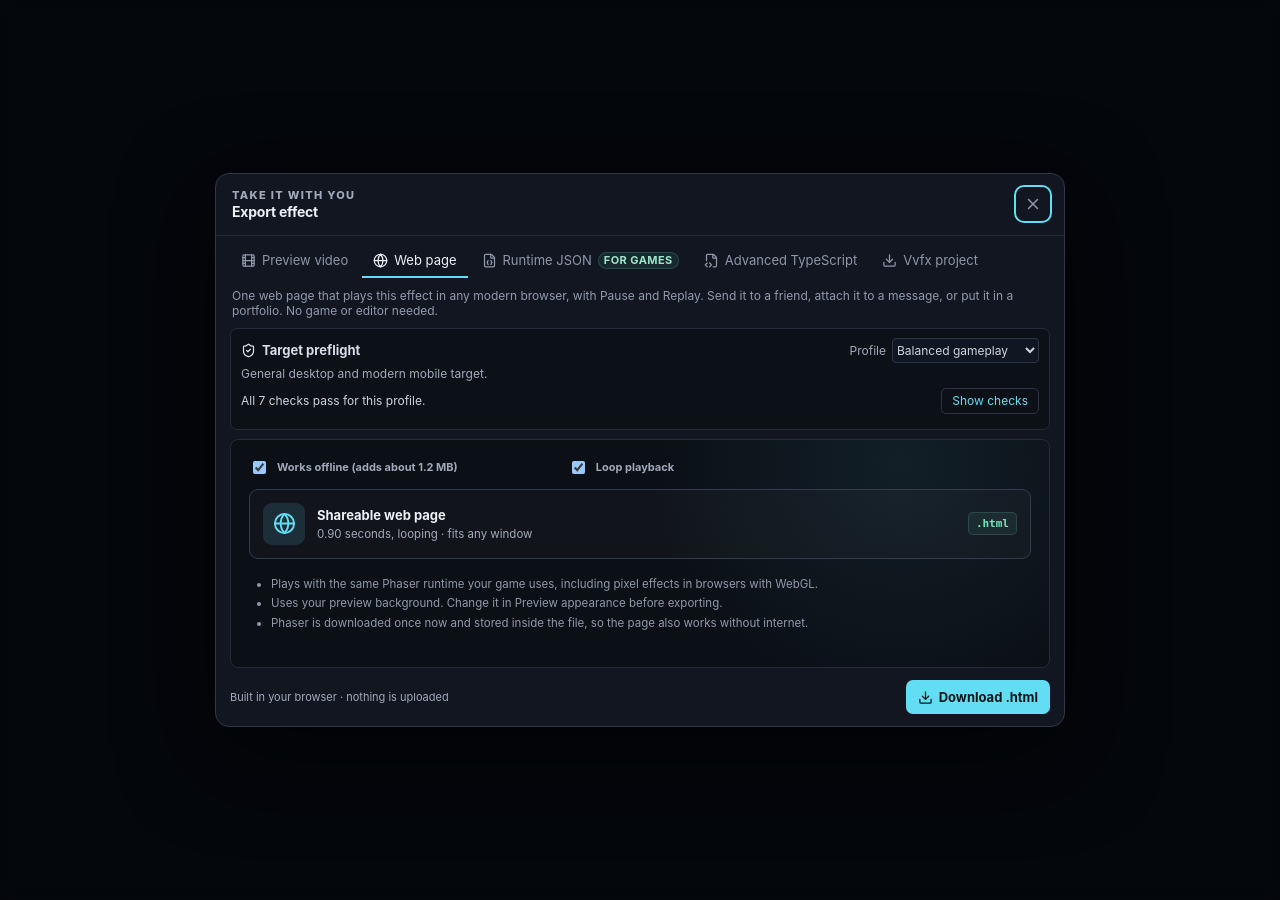
Test: Web page export tab › builds with the chosen options and reports the download
Expected: the panel "web page" is shown, [230,439,1050,668]
Click the checkbox labelled "Loop playback".
click(578, 467)  # box [572,461,585,474]
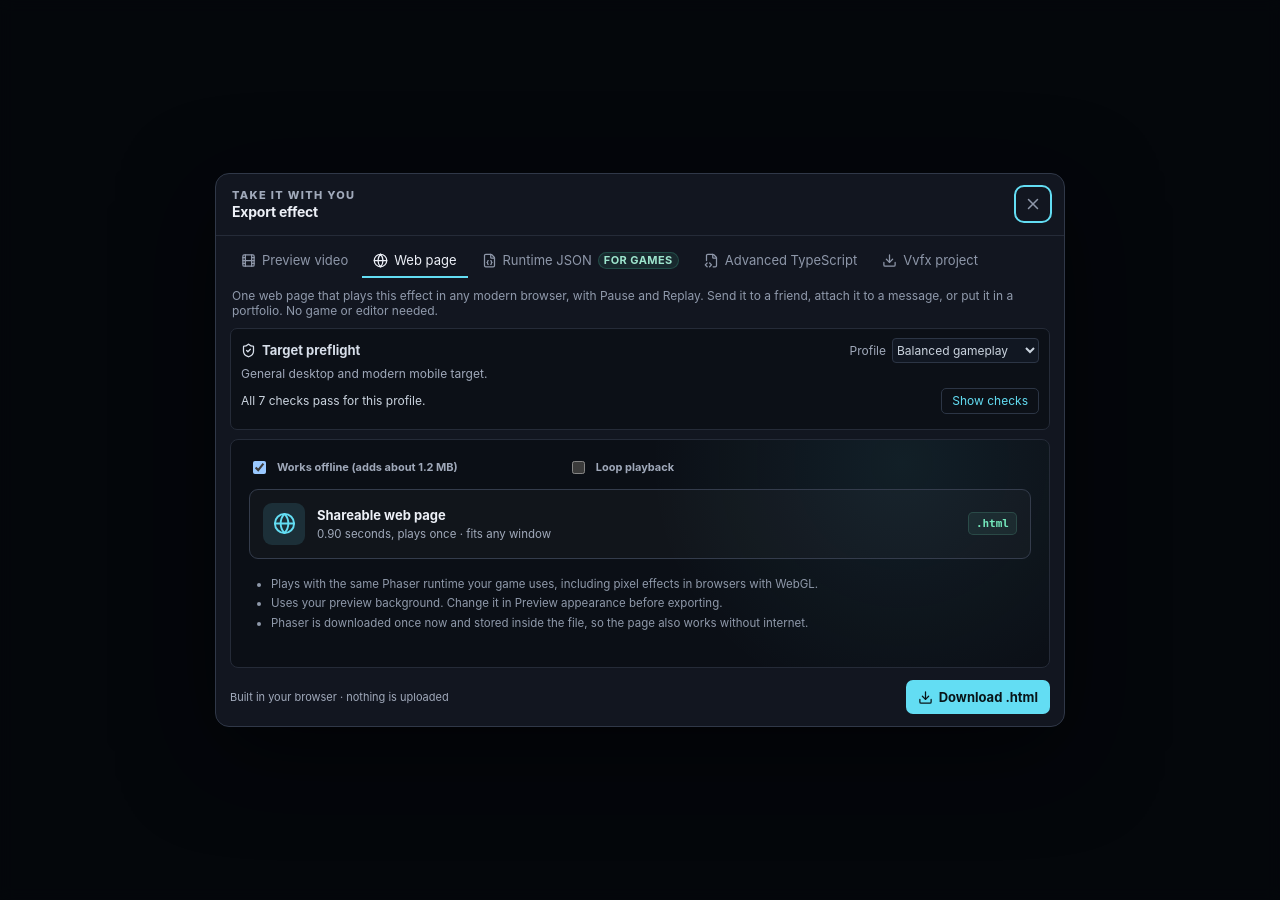
Click the checkbox labelled "Works offline (adds about 1.2 MB)".
click(260, 467)  # box [253,461,266,474]
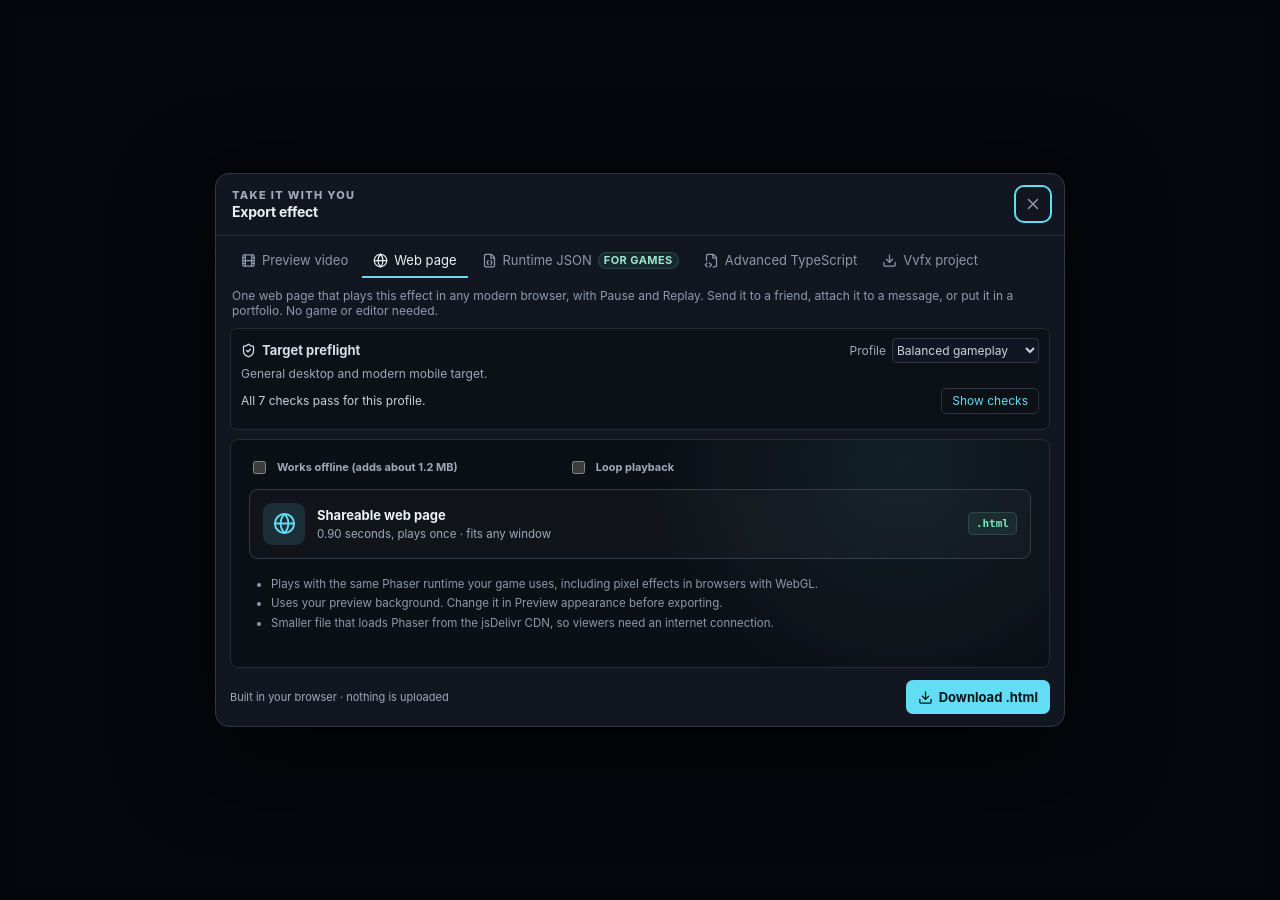
Now the text "0.90 seconds, plays once · fits any window" is shown, box [317,527,551,541]
Now the list item "viewers need an internet connection" is shown, box [271,616,774,630]
Click the button "Download .html".
click(978, 697)  # box [906,680,1050,714]
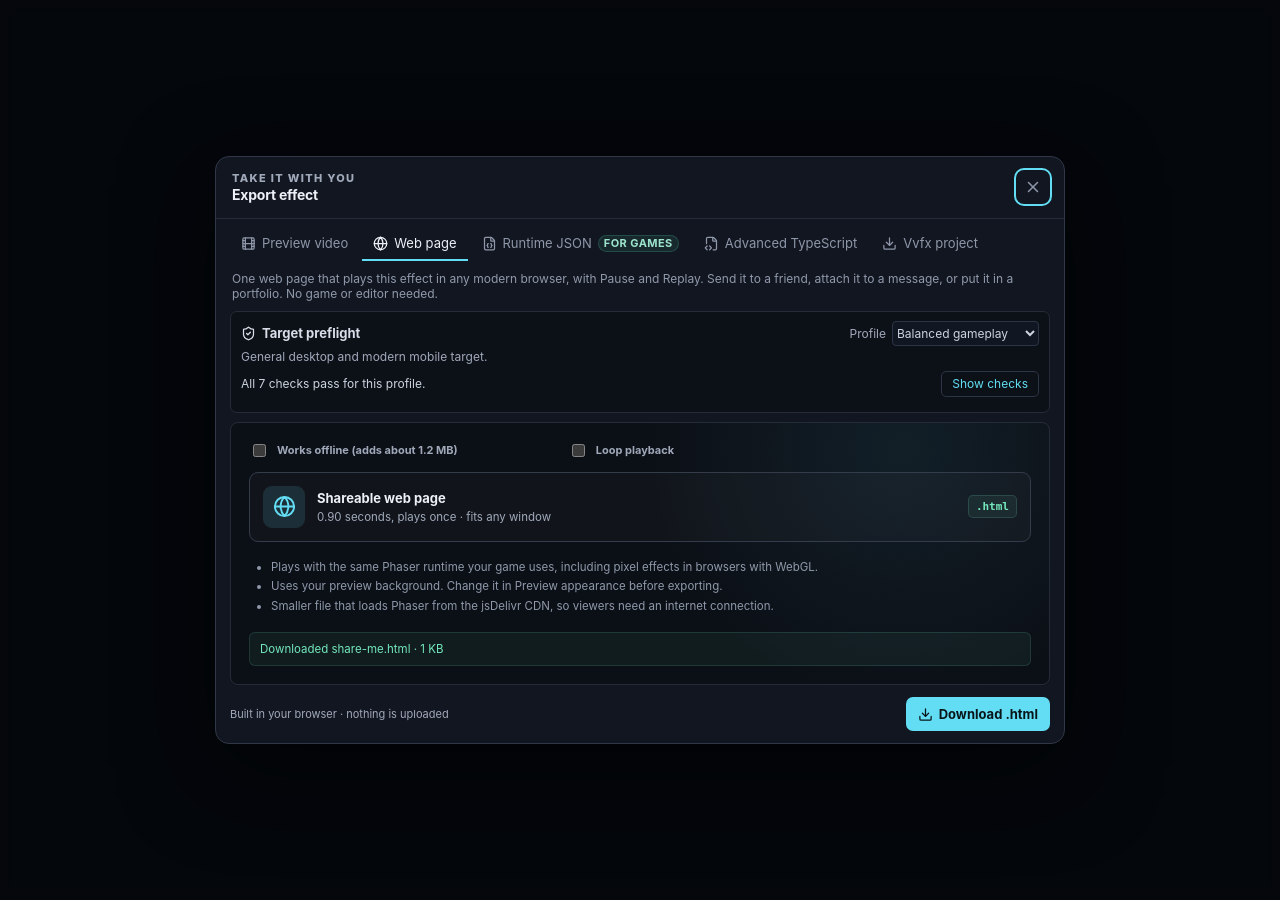
Now the message shows "Downloaded share-me.html", box [249,632,1031,666]
